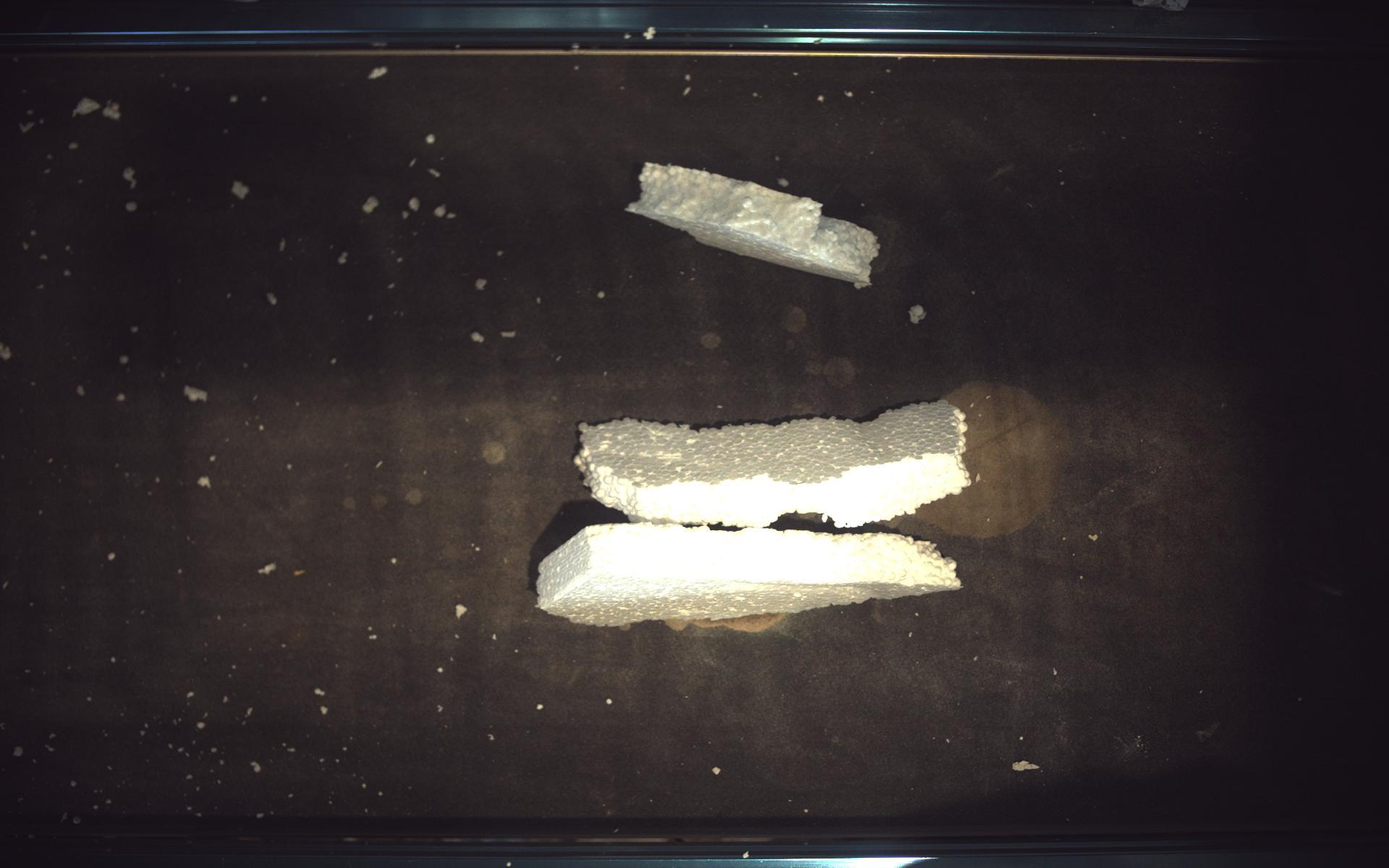foam: (576, 399, 971, 528), (538, 523, 963, 627), (627, 161, 880, 287)
